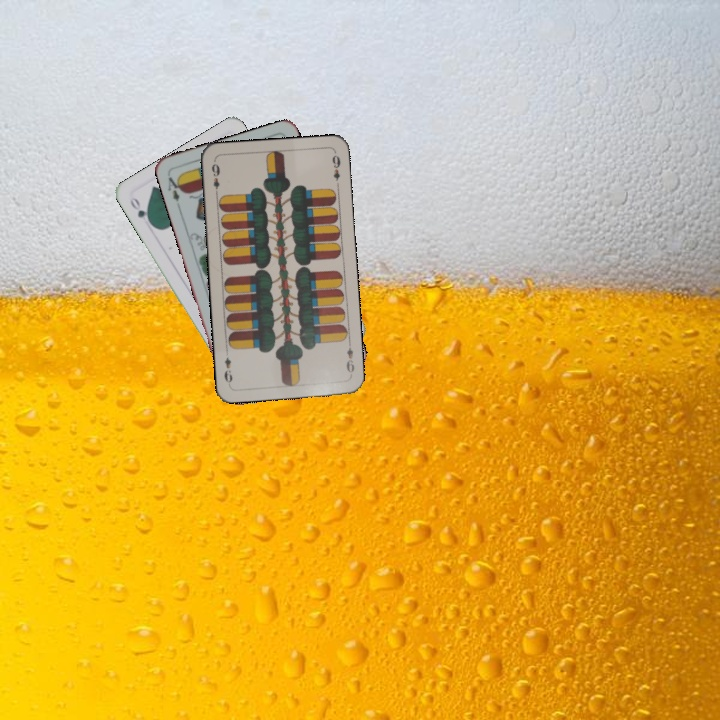E9: (342, 338, 357, 378), (207, 160, 222, 198)
EA: (164, 173, 186, 204)
GO: (126, 193, 155, 228)
